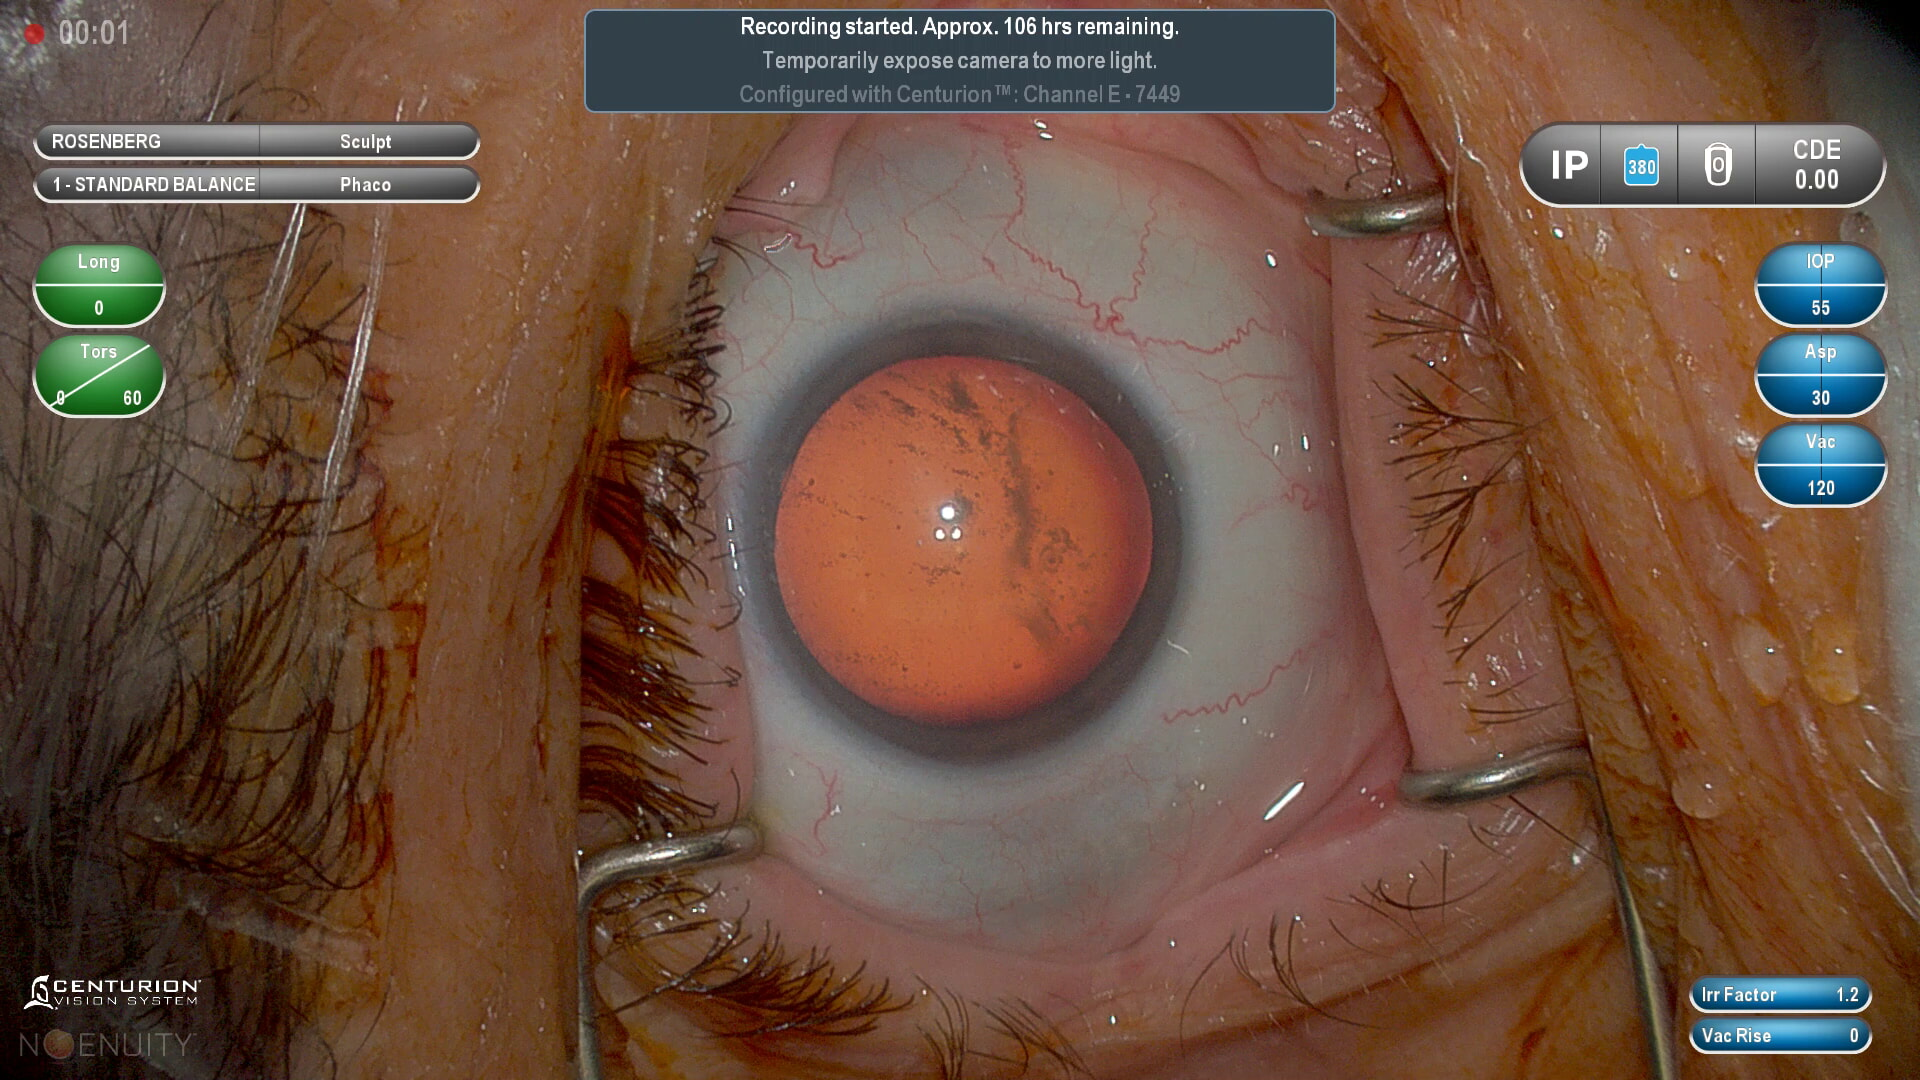iris: (742, 326, 1186, 760)
pupil: (774, 355, 1155, 728)
